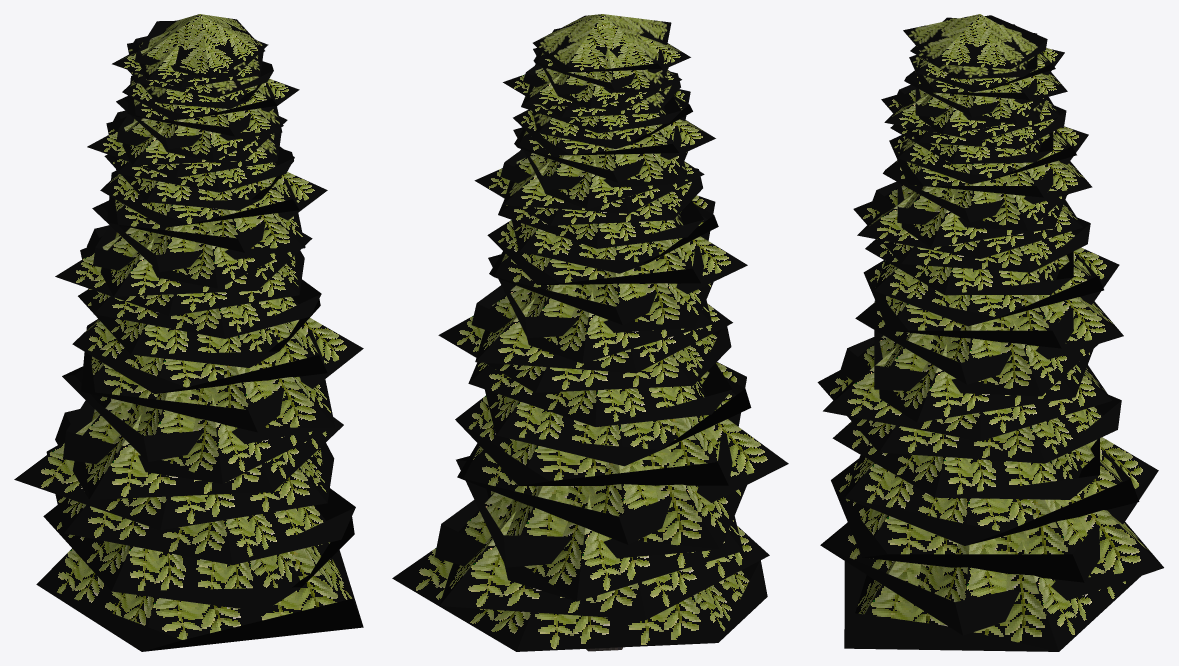
Rendered from tree.glb.
The picture shows the model from 3 angles, left to right: view 1: azimuth 30°, elevation 25°; view 2: azimuth 150°, elevation 25°; view 3: azimuth 270°, elevation 25°; orthographic projection. The views are drawn at different scales.
Visible parts, largest first — view 1: tree; view 2: tree; view 3: tree.
Part boxes in pixels (x1,y1,x2,y2): tree: [14, 14, 363, 651]; tree: [392, 14, 788, 651]; tree: [817, 14, 1163, 651].
Size of the model in its own units: 6.52 by 12.01 by 6.23.
2 materials, 2 textured.
